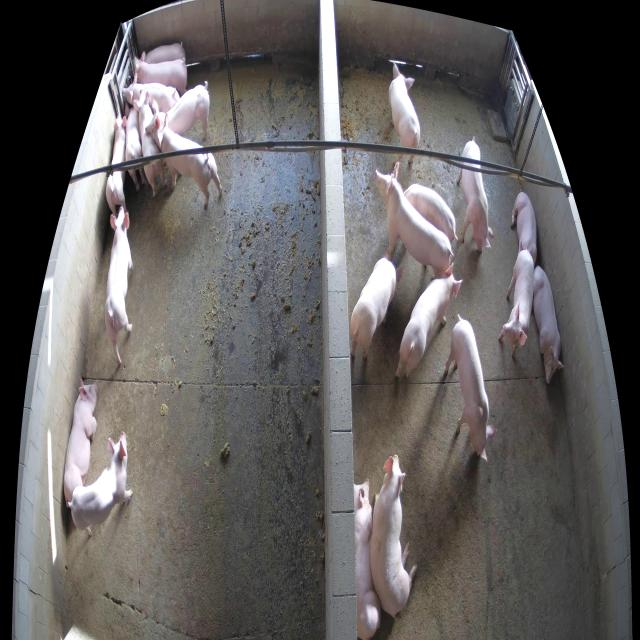pig: (374, 164, 453, 278), (370, 454, 418, 619), (395, 263, 463, 377), (446, 314, 497, 463), (68, 432, 133, 537), (151, 114, 223, 205), (350, 250, 404, 358), (63, 376, 99, 505), (456, 137, 494, 253), (354, 478, 381, 639), (106, 207, 133, 365), (498, 250, 534, 359), (132, 90, 167, 196), (147, 81, 210, 139), (532, 267, 563, 383), (389, 62, 420, 166), (404, 185, 458, 241), (133, 52, 187, 95), (106, 113, 127, 216), (511, 191, 537, 268), (125, 104, 146, 190), (122, 83, 179, 113), (145, 41, 186, 64)
